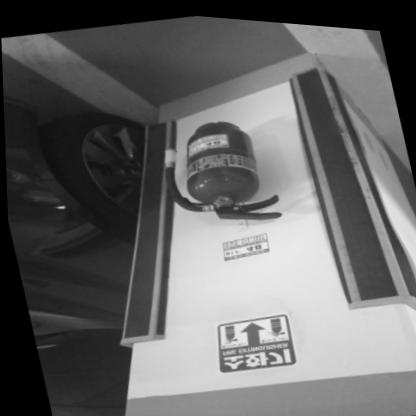FE: (171, 106, 276, 229)
